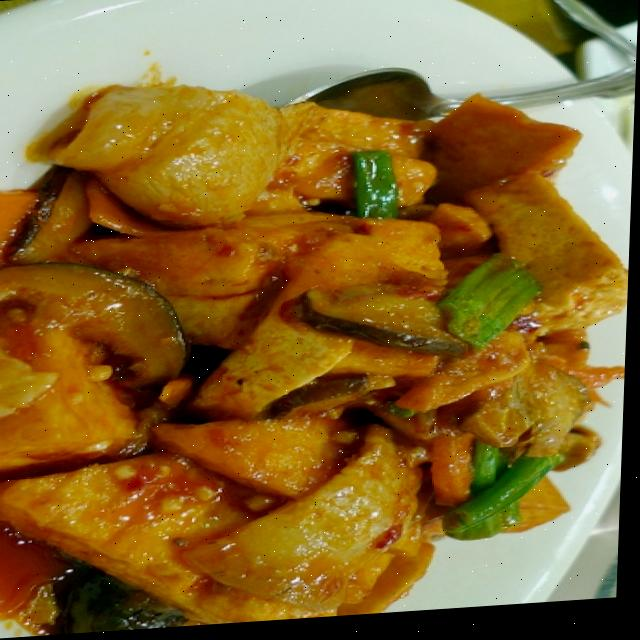豆腐料理: (0, 4, 639, 637)
